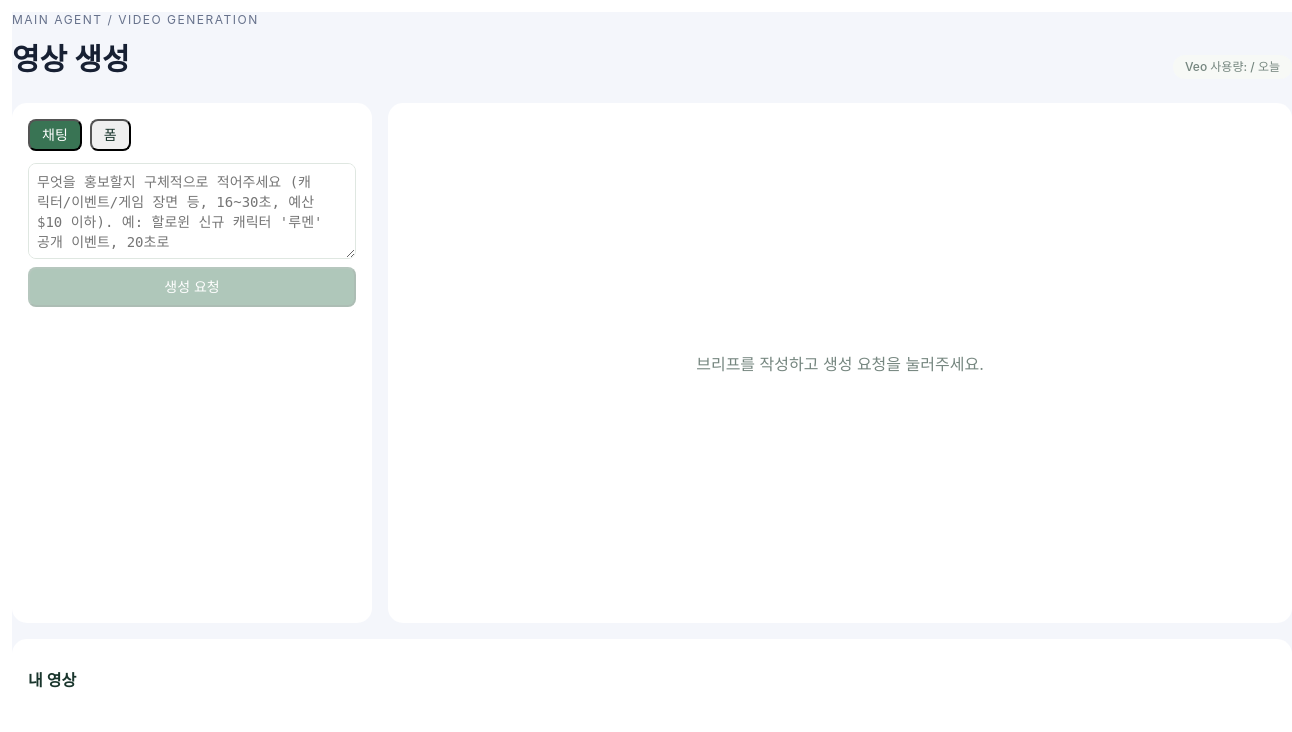
Test: VideoAgentPage › shows an inline error and keeps the composer filled in when submission fails
Type "할로윈 이벤트 영상 15초" into the text box named "영상 브리프". click: [192, 211]
box: [28, 163, 356, 259]
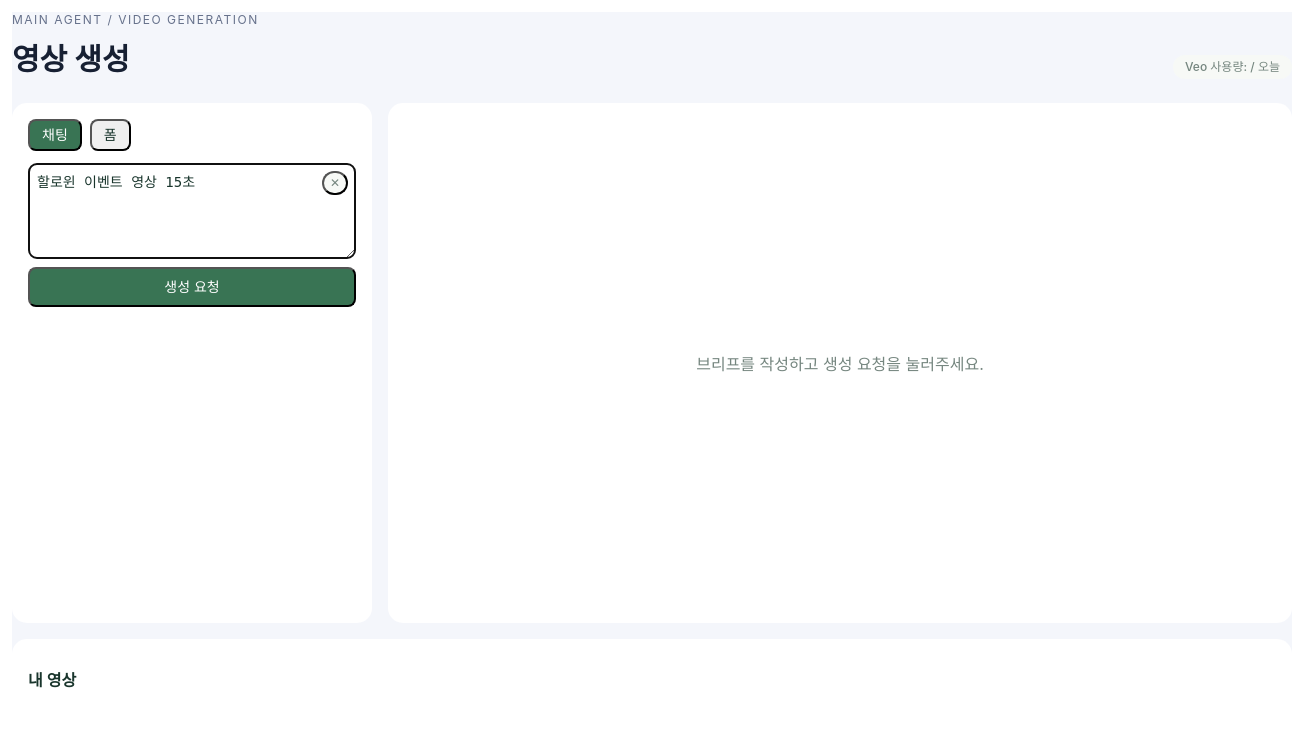
Click the button "생성 요청". click: [192, 287]
box: [28, 267, 356, 307]
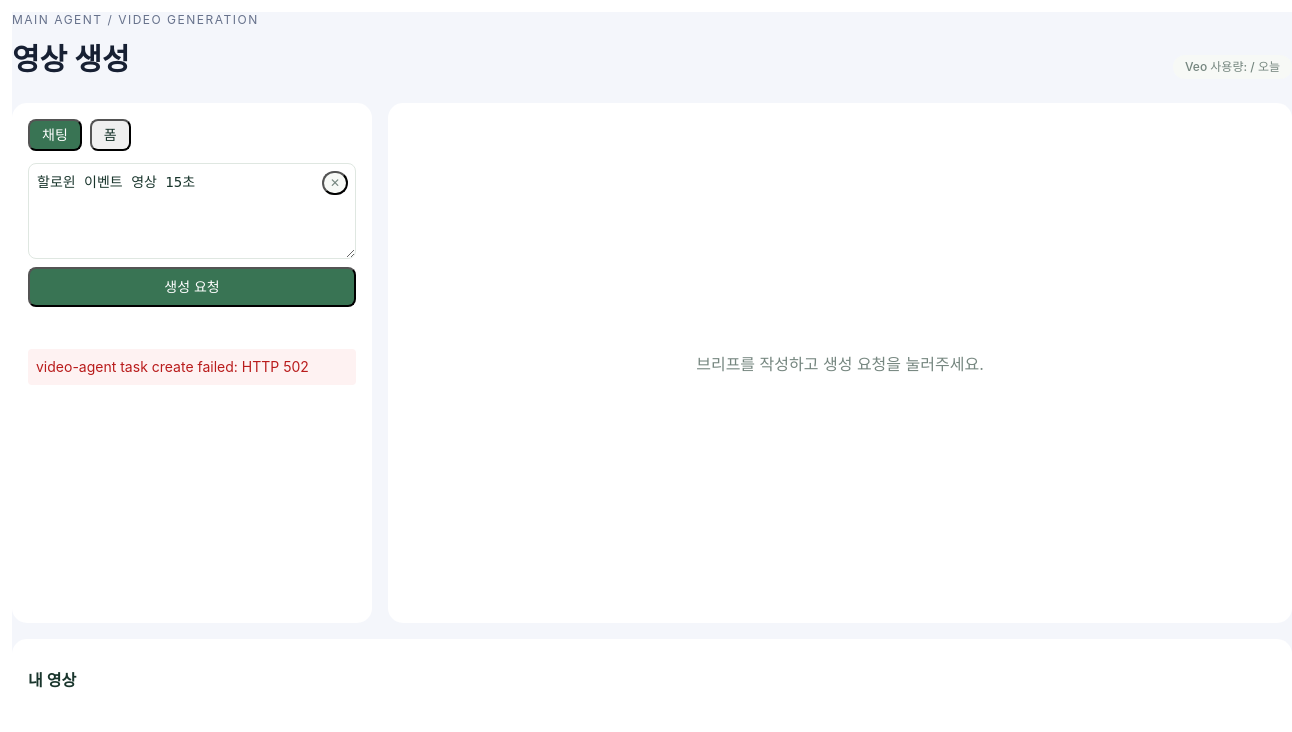
Now the text "video-agent task create failed: HTTP 502" is shown, box [28, 349, 356, 385]
